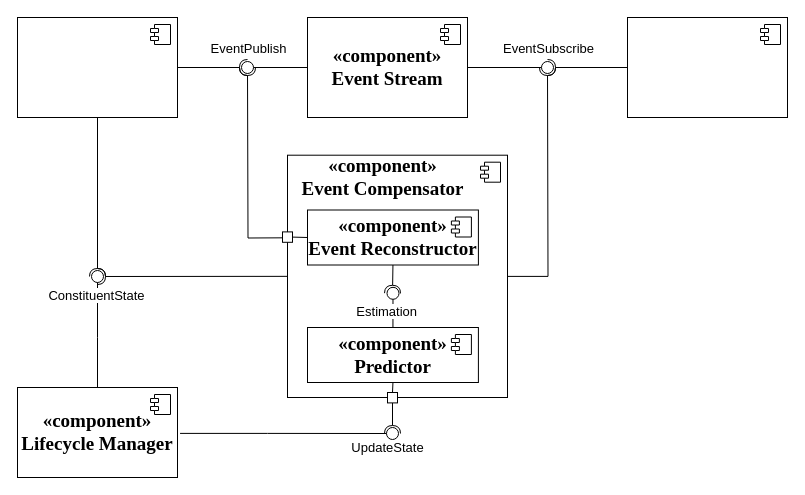
Image size: 805x495. Some labels were removed from this diagram. Each missing label, with the centre of its shape:
"«component» Event Processor" belongs at pixel 707 67.
"«component» Event Source" belongs at pixel 97 67.
